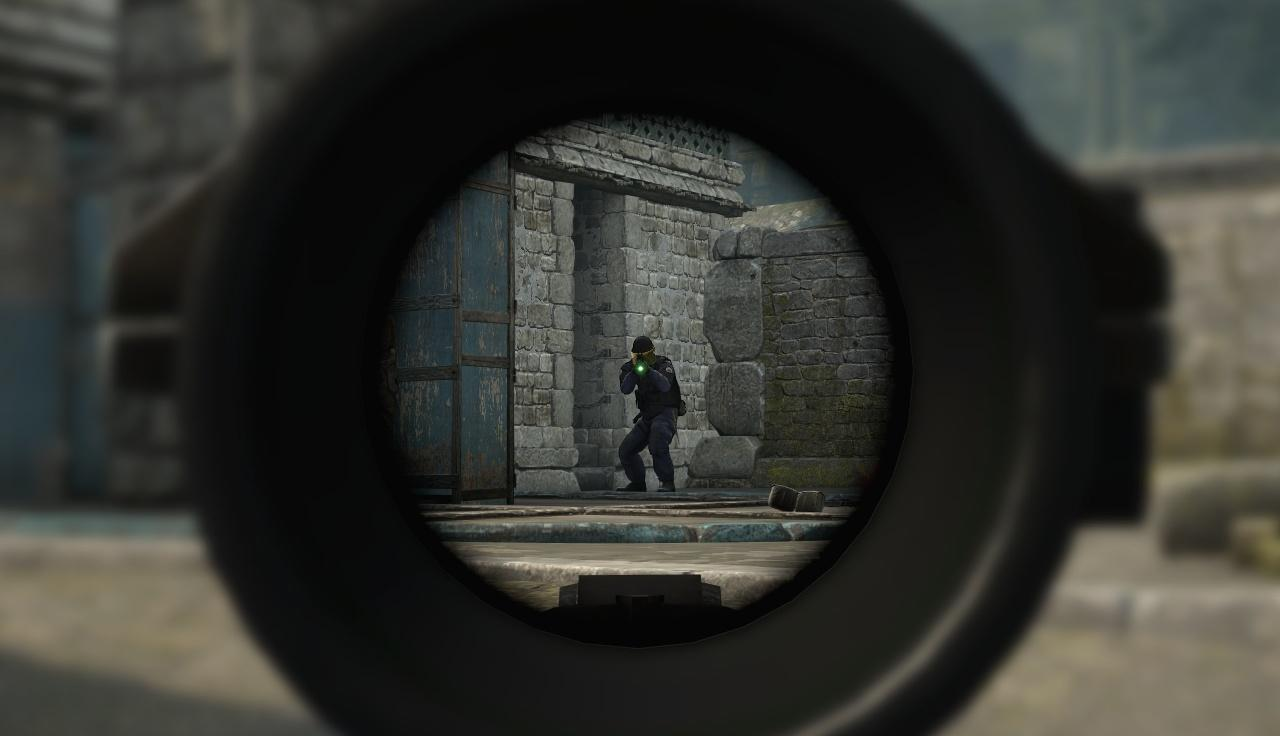ct: (620, 338, 677, 493)
cthead: (633, 338, 656, 365)
